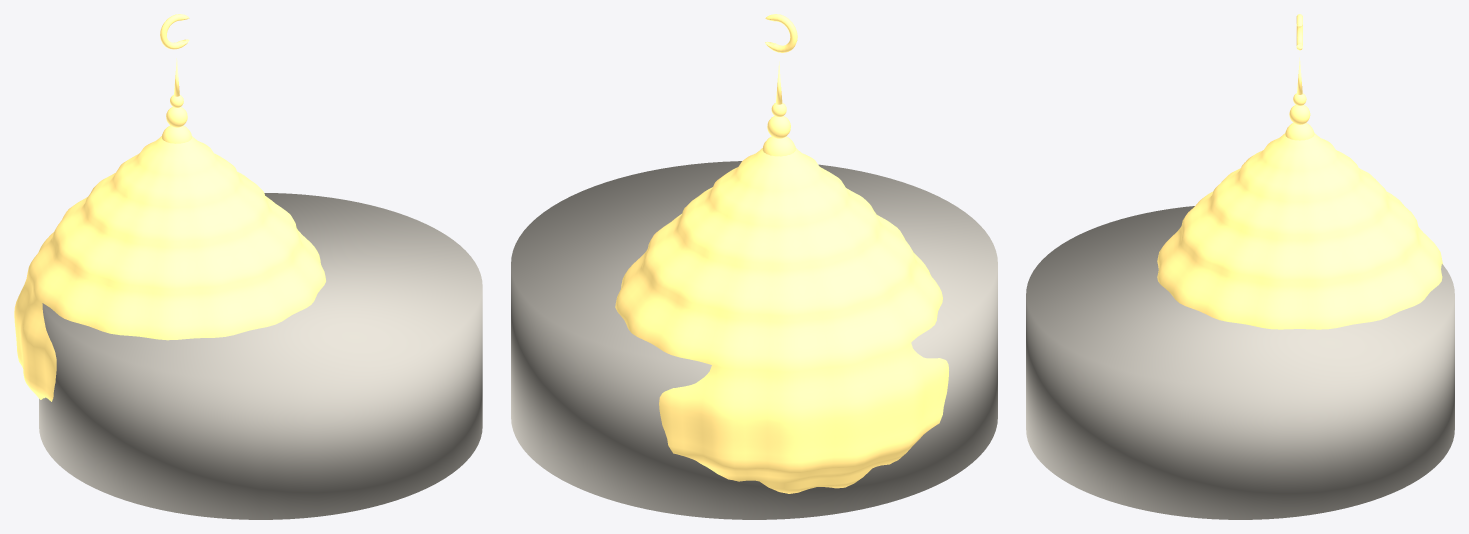
The model's file is dome_onion.glb.
3 views of the same model, side by side, from view 1: azimuth 30°, elevation 25°; view 2: azimuth 150°, elevation 25°; view 3: azimuth 270°, elevation 25° (orthographic). The views are drawn at different scales.
Parts seen in each view (by area): view 1: onion; view 2: onion; view 3: onion.
Part boxes in pixels (x1,y1,x2,y2): onion: (14,14,482,519); onion: (511,14,997,519); onion: (1026,14,1454,519).
Bounding box in the file's own units: 1.44 × 1.44 × 1.44.
